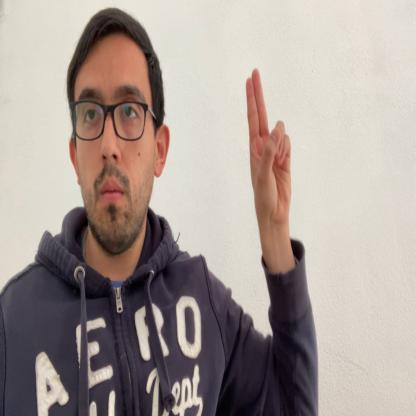U: (246, 66, 292, 230)
